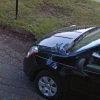Car: (16, 14, 100, 100)
